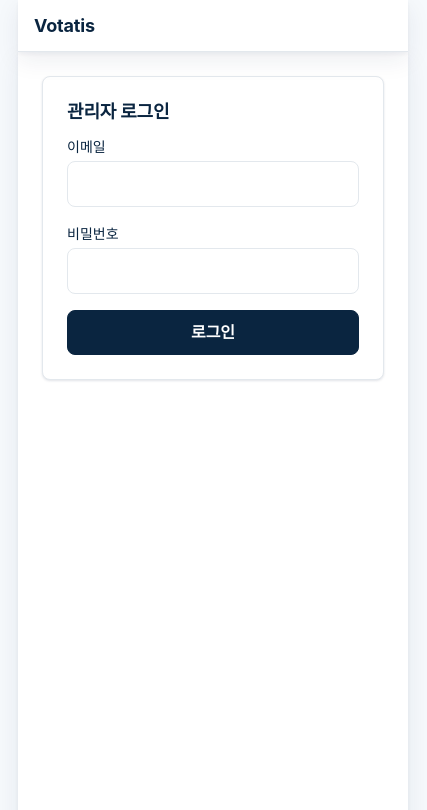
Test case: LoginPage › 401 이면 이메일/비번을 구분하지 않는 에러 메시지를 표시한다
In the field labelled "이메일": (213, 184) [67, 160, 359, 206], type "a@b.com"
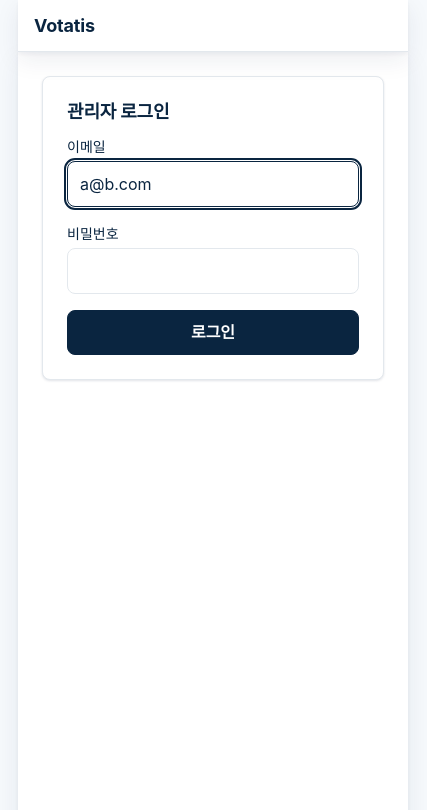
In the password field labelled "비밀번호": (213, 270) [67, 248, 359, 294], type "wrong"
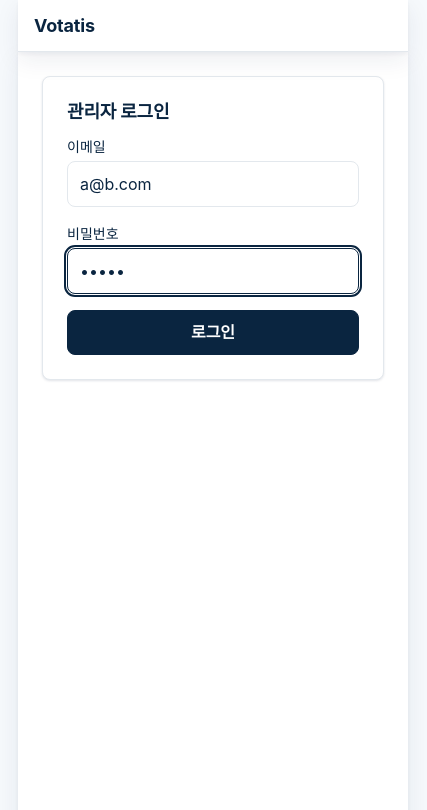
Click the button "로그인": (213, 332) [67, 310, 359, 355]
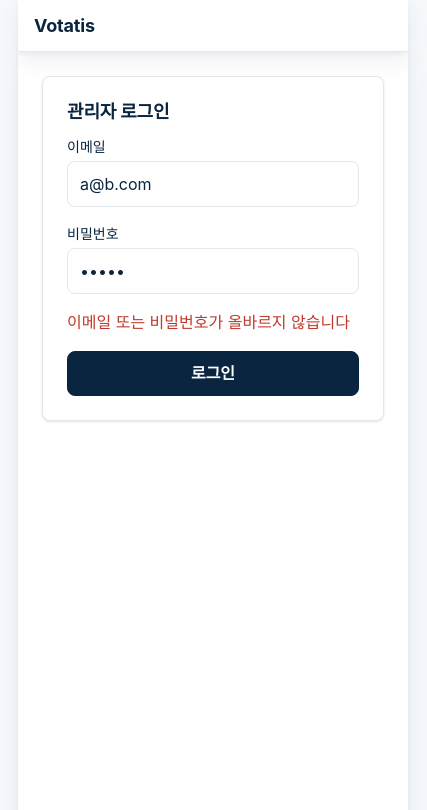
Now the text "이메일 또는 비밀번호가 올바르지 않습니다" is shown, box [67, 310, 359, 335]
